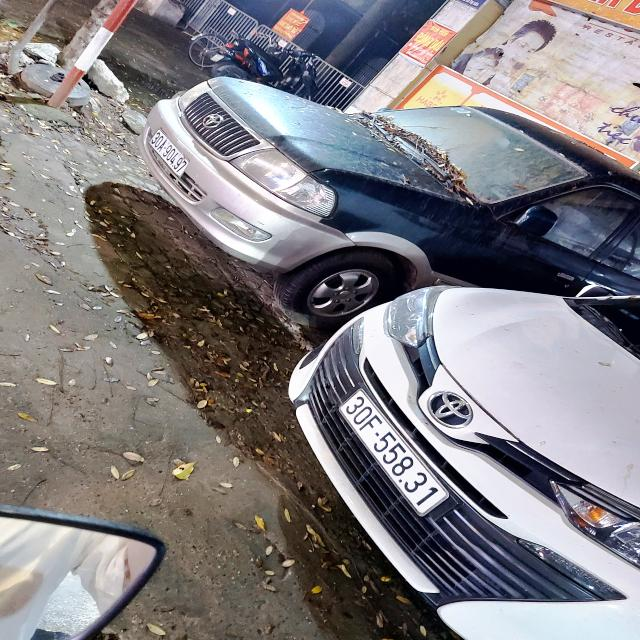license_plate: (336, 388, 453, 520)
